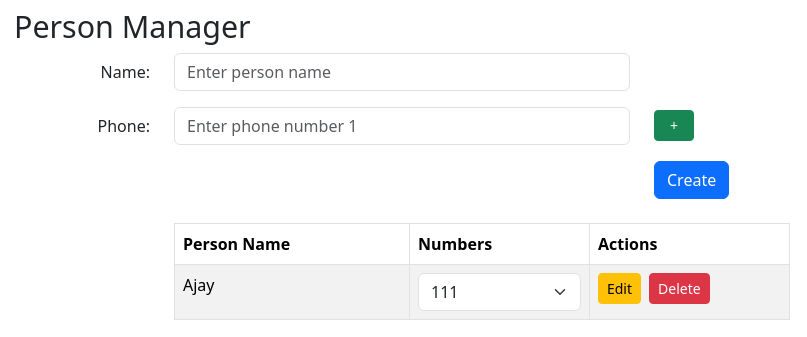
Test: PersonManager Component › delete a person
Expected: the text "Ajay" is shown, [174,264,410,319]
Click the button "Delete".
click(679, 288)  # box [649,272,710,304]
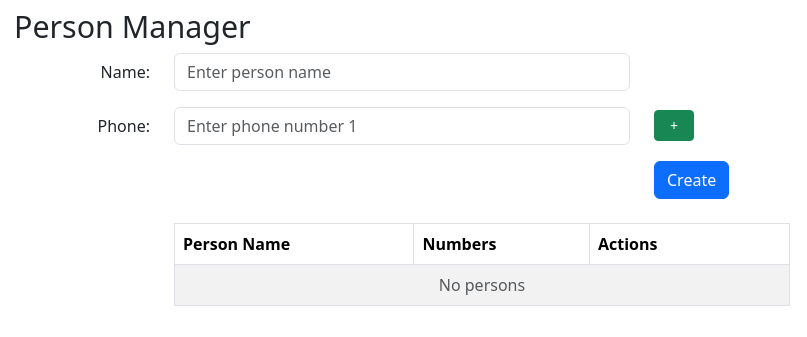
Now the text "Ajay" is gone
